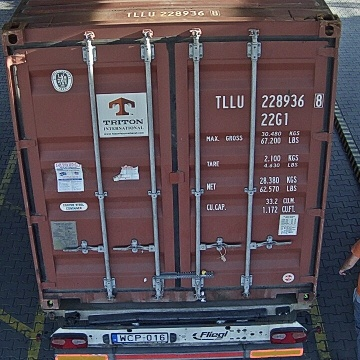serial_id: (215, 93, 323, 108)
